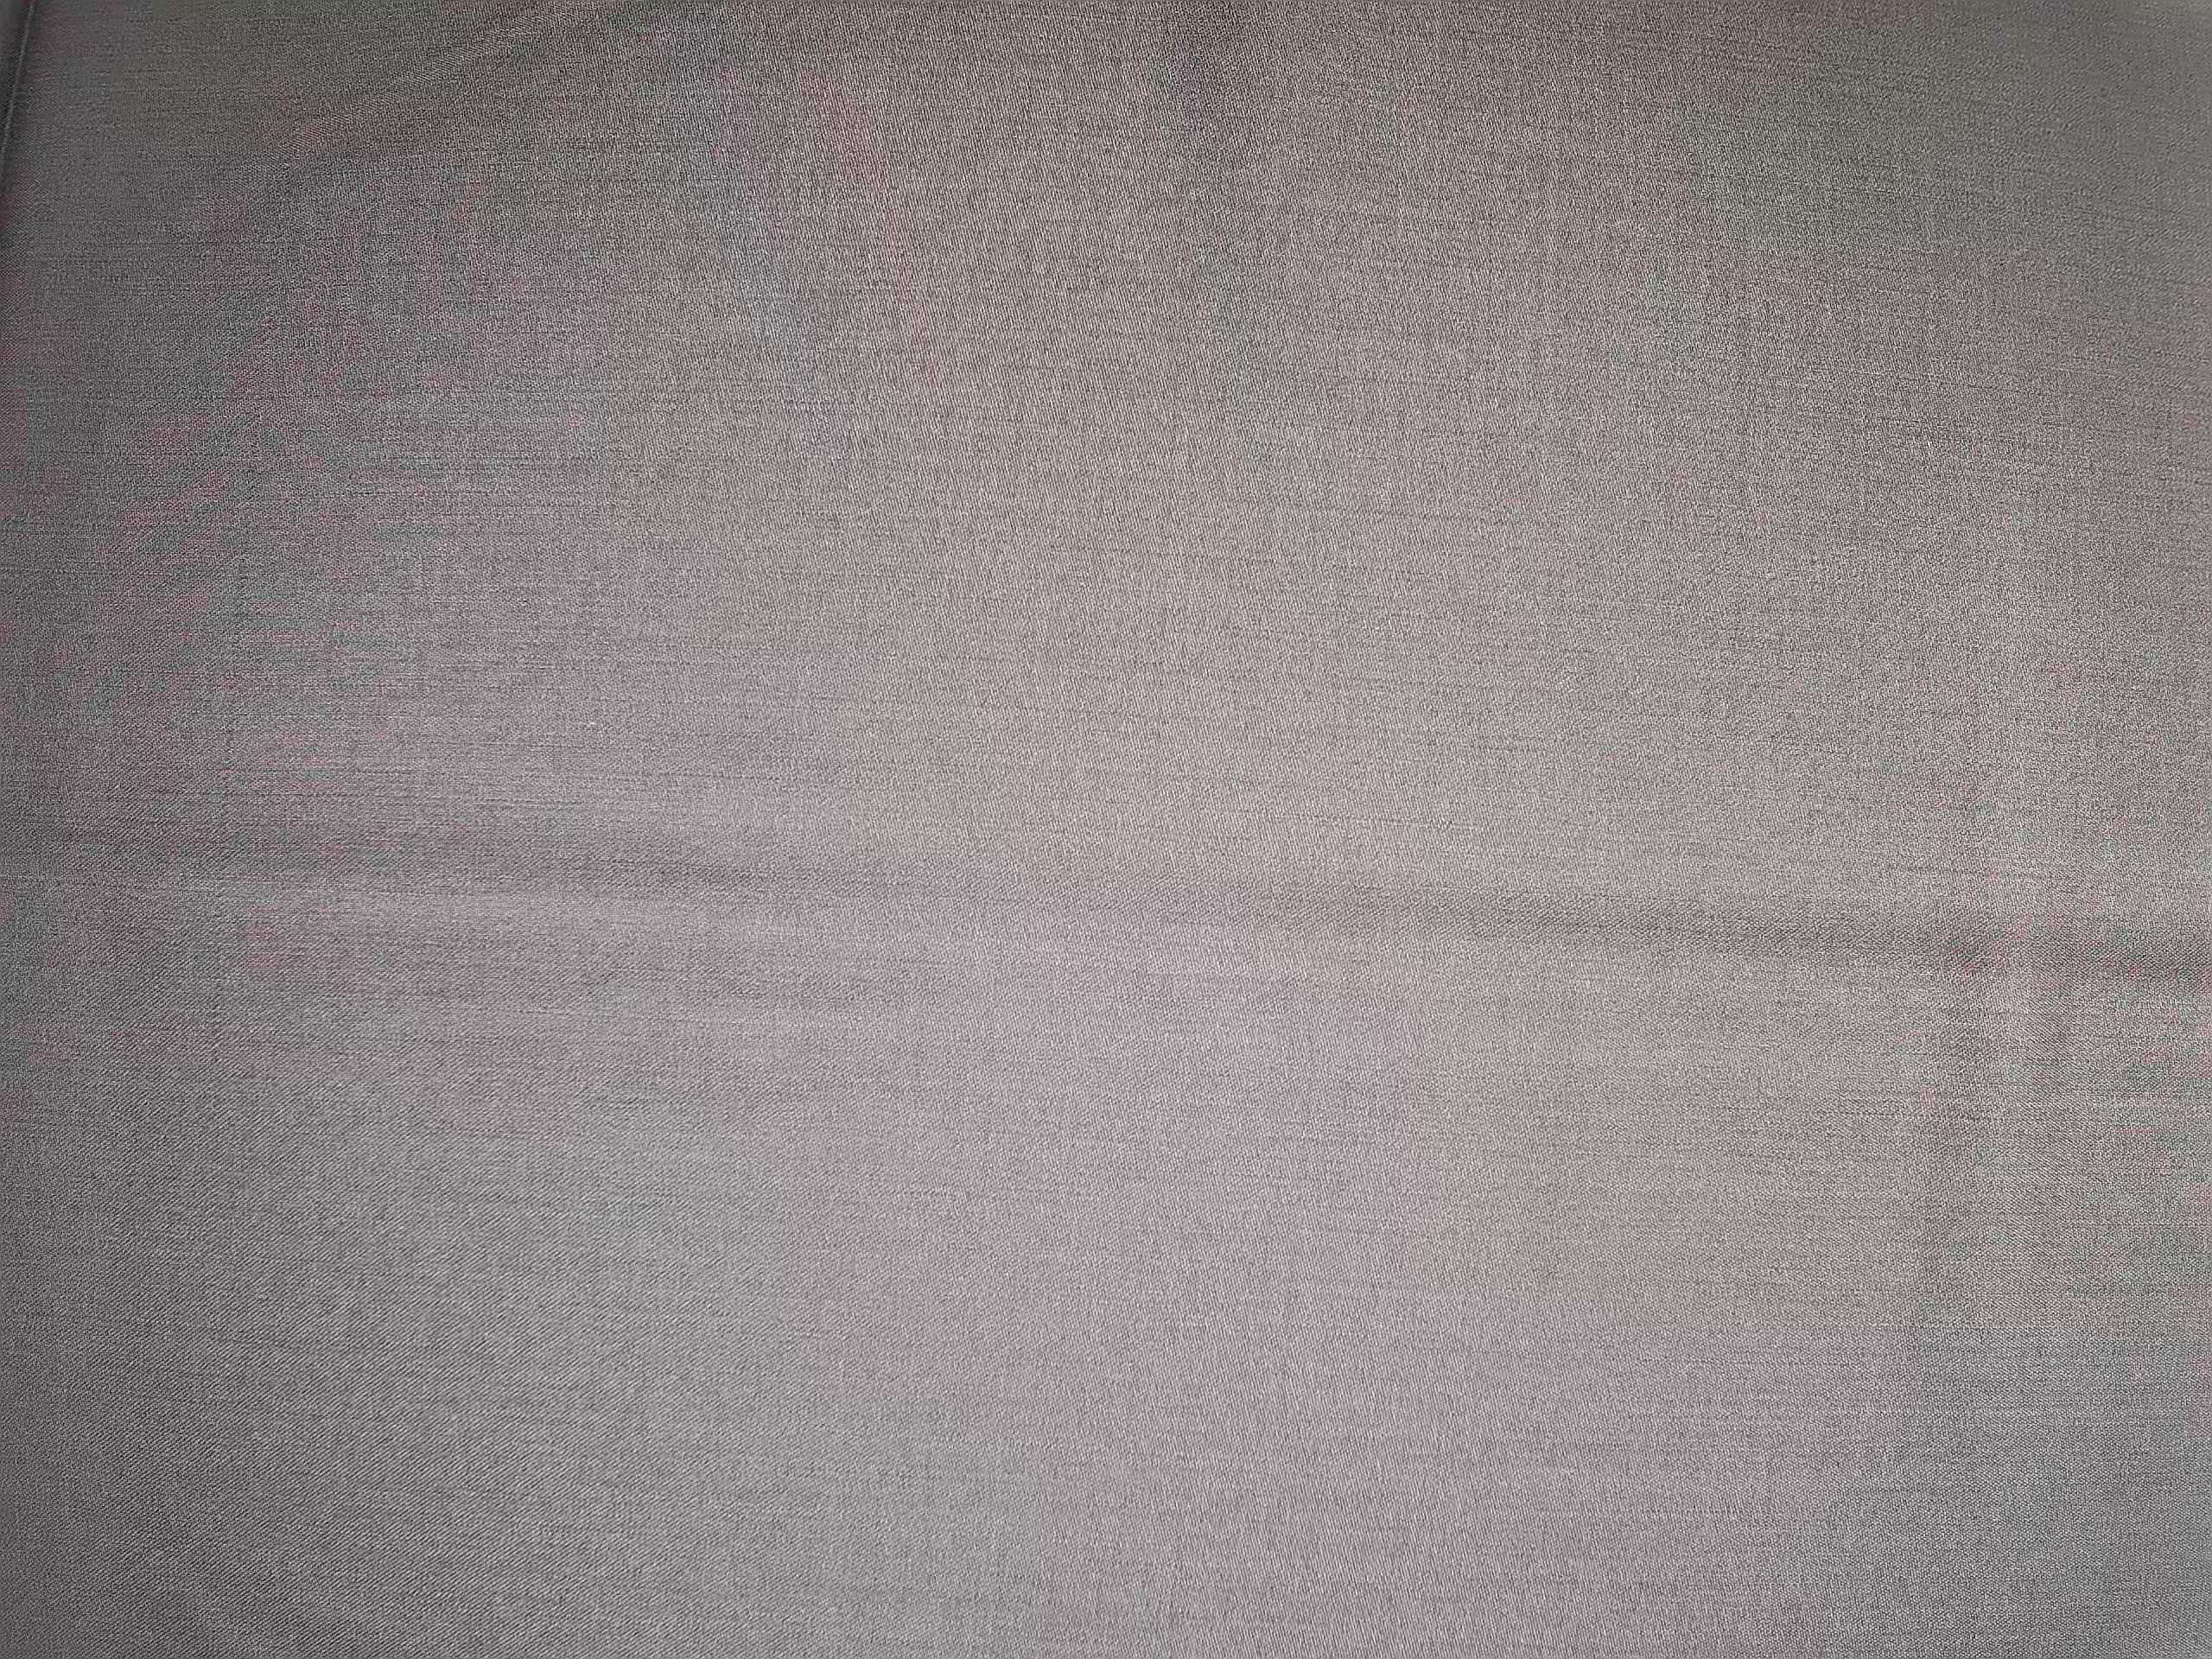hanging-warp: (199, 2, 320, 1080)
